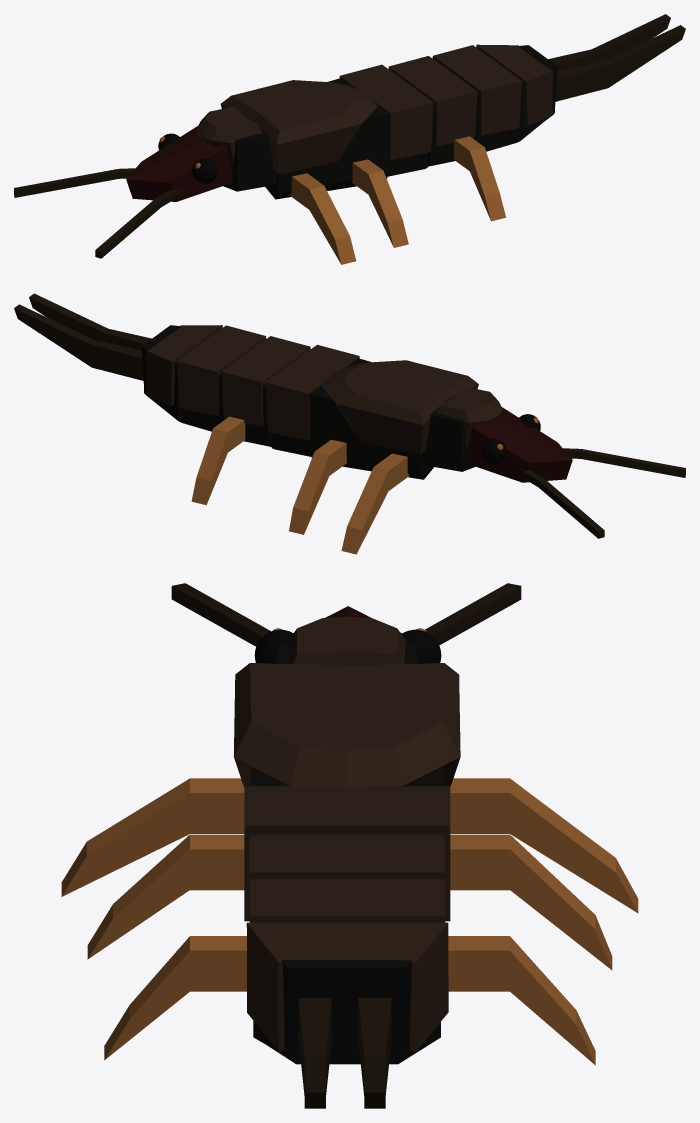
Rendered from ohrwurm.obj.
3 renders of one model, top to bottom at view 1: azimuth 30°, elevation 25°; view 2: azimuth 150°, elevation 25°; view 3: azimuth 270°, elevation 25°, orthographic. The views are drawn at different scales.
Parts seen in each view (by area): view 1: Cube.016_Cube.018, Cube, Cube.018_Cube.022, Cube.015_Cube.020, Cube.014_Cube.019, Cube.002, Cube.007, Cube.017_Cube.021, Cube.011, Cube.001, Cube.009, Cube.010 (+9 smaller); view 2: Cube.016_Cube.018, Cube, Cube.018_Cube.022, Cube.015_Cube.020, Cube.014_Cube.019, Cube.002, Cube.008, Cube.017_Cube.021, Cube.011, Cube.009, Cube.001, Cube.010 (+9 smaller); view 3: Cube.016_Cube.018, Cube.011, Cube.009, Cube.010, Cube.017_Cube.021, Cube.018_Cube.022, Cube.006, Cube.014_Cube.019, Cube.015_Cube.020, Cube.019_Cube.023, Cube.007, Cube.008 (+5 smaller).
Part boxes in pixels (x1,y1,x2,y2): Cube.016_Cube.018: [220, 80, 377, 174]; Cube: [126, 126, 233, 201]; Cube.018_Cube.022: [339, 64, 433, 159]; Cube.015_Cube.020: [432, 45, 521, 135]; Cube.014_Cube.019: [388, 56, 477, 146]; Cube.002: [265, 78, 390, 199]; Cube.007: [555, 25, 685, 101]; Cube.017_Cube.021: [476, 44, 552, 125]; Cube.011: [290, 173, 356, 264]; Cube.001: [223, 114, 276, 191]; Cube.009: [351, 159, 408, 247]; Cube.010: [454, 136, 505, 221]; Cube.016_Cube.018: [322, 360, 478, 454]; Cube: [465, 407, 572, 482]; Cube.018_Cube.022: [265, 344, 359, 440]; Cube.015_Cube.020: [177, 325, 266, 415]; Cube.014_Cube.019: [221, 336, 310, 426]; Cube.002: [308, 358, 433, 479]; Cube.008: [14, 304, 143, 380]; Cube.017_Cube.021: [146, 325, 222, 405]; Cube.011: [341, 453, 409, 554]; Cube.009: [289, 439, 347, 534]; Cube.001: [422, 394, 475, 471]; Cube.010: [191, 416, 245, 505]; Cube.016_Cube.018: [234, 663, 460, 788]; Cube.011: [61, 778, 638, 912]; Cube.009: [87, 834, 612, 970]; Cube.010: [104, 936, 595, 1065]; Cube.017_Cube.021: [246, 922, 448, 1051]; Cube.018_Cube.022: [244, 786, 450, 921]; Cube.006: [253, 960, 440, 1064]; Cube.014_Cube.019: [249, 835, 444, 922]; Cube.015_Cube.020: [250, 879, 445, 922]; Cube.019_Cube.023: [288, 616, 406, 666]; Cube.007: [298, 998, 331, 1108]; Cube.008: [358, 998, 391, 1108].
Bounding box in the file's own units: 5.44 × 0.9361 × 2.19.
